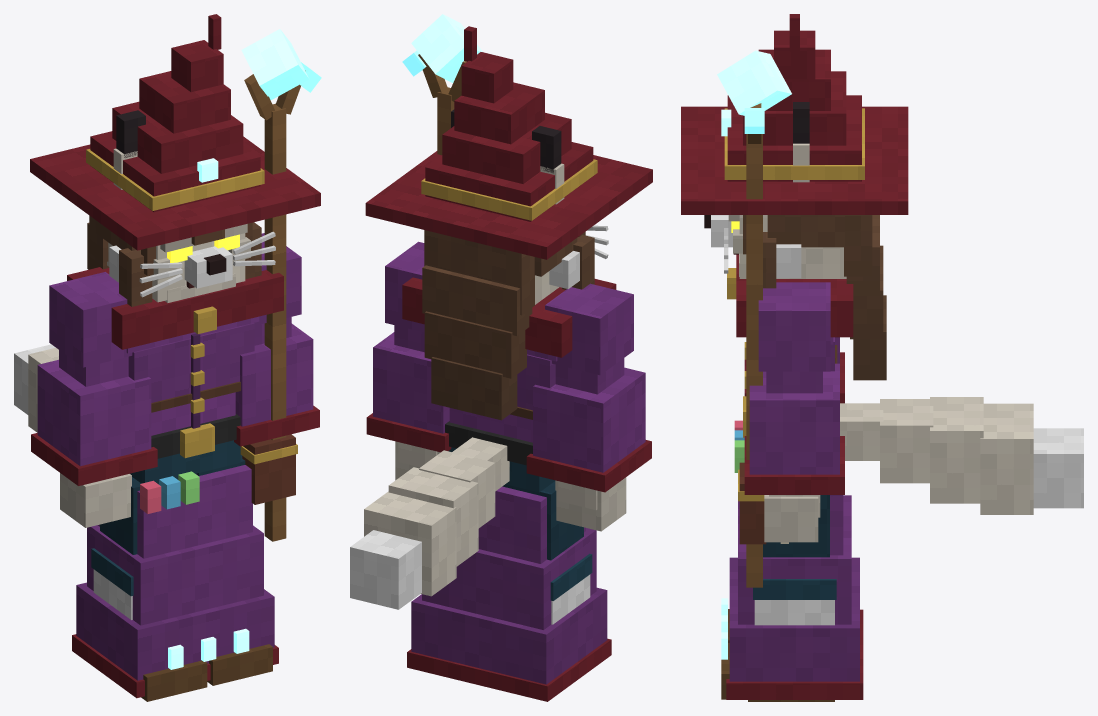
The model's file is beastfolk_mage_v3.glb.
The picture shows the model from 3 angles, left to right: view 1: azimuth 30°, elevation 25°; view 2: azimuth 150°, elevation 25°; view 3: azimuth 270°, elevation 25°; orthographic projection. The views are drawn at different scales.
Parts seen in each view (by area): view 1: Head, Root, Torso, ArmR, HandL, ArmL, LegR, LegL; view 2: Head, Root, Torso, ArmR, ArmL, HandL, LegR; view 3: Head, Torso, ArmL, Root, HandL, LegL.
Boxes of the visible parts, x1,y1,x2,y2 form: Head: (30,14,320,306); Root: (72,465,278,698); Torso: (14,267,297,513); ArmR: (31,272,157,527); HandL: (241,29,321,541); ArmL: (234,233,319,446); LegR: (91,477,207,701); LegL: (196,455,272,685); Head: (365,26,652,420); Root: (407,486,611,701); Torso: (350,277,616,609); ArmR: (526,283,651,531); ArmL: (366,241,451,480); HandL: (402,14,482,155); LegR: (502,481,592,624); Head: (681,14,908,380); Torso: (727,254,1083,544); ArmL: (744,282,844,543); Root: (721,495,863,699); HandL: (717,50,791,587); LegL: (721,495,836,701).
Bounding box in the file's own units: 0.8894 × 2.22 × 1.21.
Materials: 41 (41 with a texture image).
